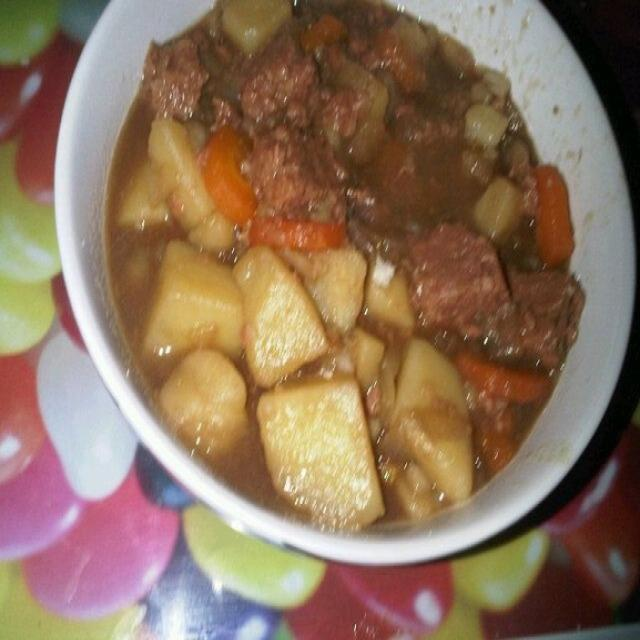汤锅炖物: (38, 1, 631, 581)
